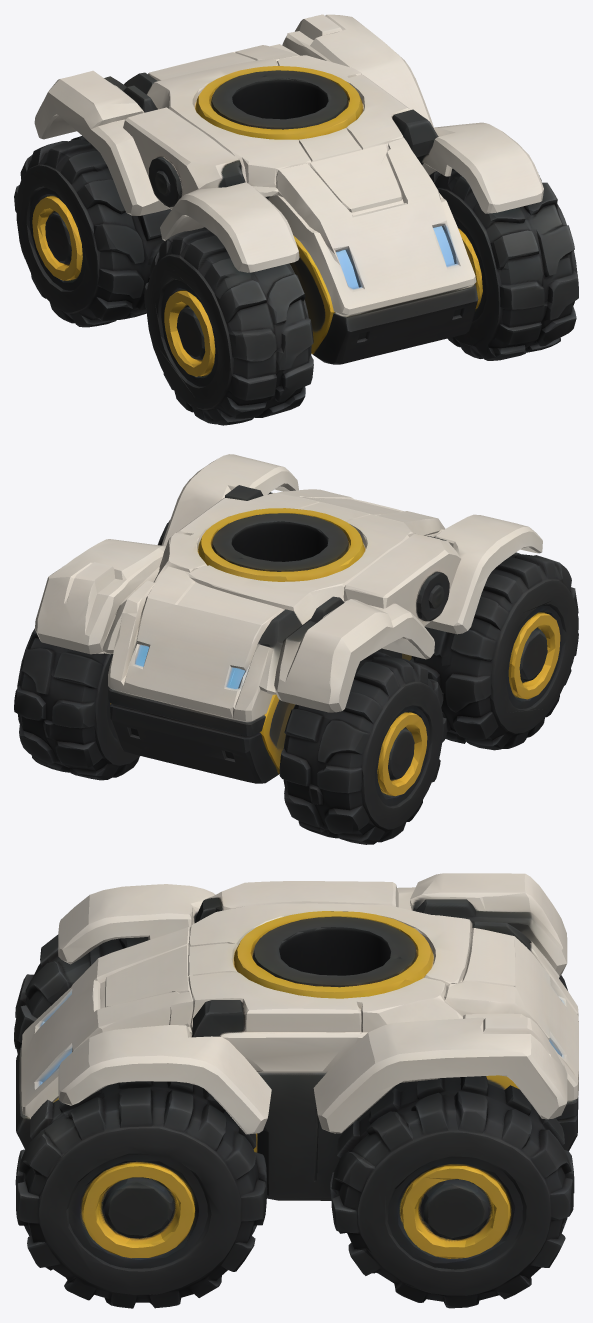
The model's file is c03_pbr.glb.
3 views of the same model, one above another, from view 1: azimuth 30°, elevation 25°; view 2: azimuth 150°, elevation 25°; view 3: azimuth 270°, elevation 25° (orthographic). The views are drawn at different scales.
Visible parts, largest first — view 1: model; view 2: model; view 3: model.
Part boxes in pixels (bbox=[...]): model: bbox=[14, 14, 578, 425]; model: bbox=[14, 454, 578, 844]; model: bbox=[14, 873, 578, 1308].
Bounding box in the file's own units: 1.63 × 0.9778 × 1.89.
1 material, 1 textured.
